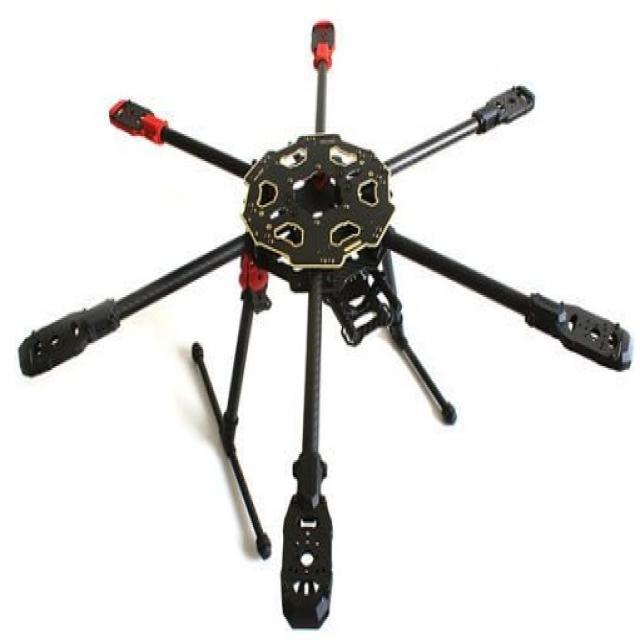drone: (0, 18, 640, 597)
